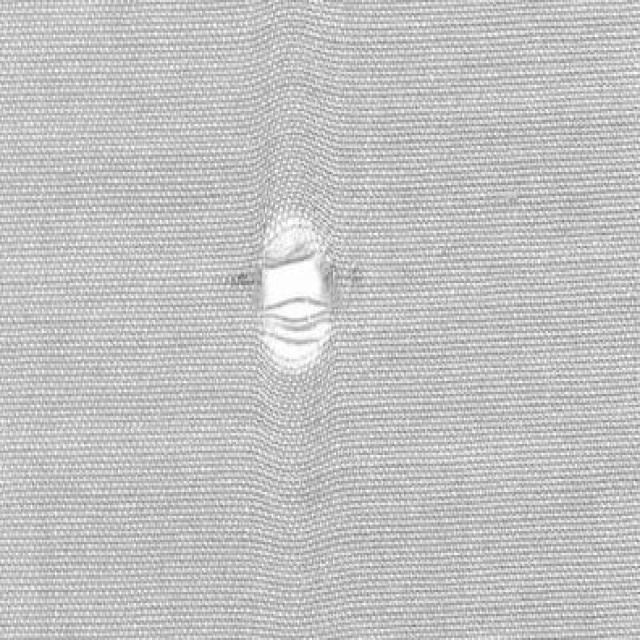Hole: (260, 217, 331, 368)
